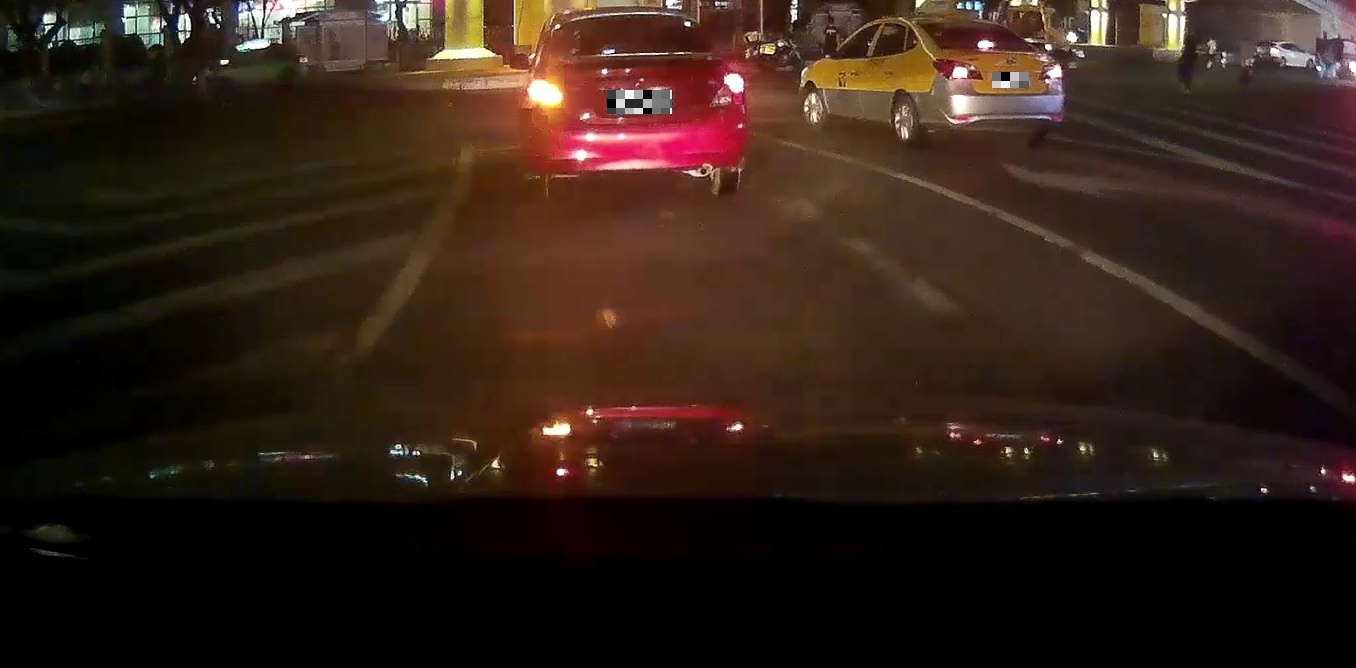L_light: (528, 79, 567, 110), (931, 58, 983, 79)
R_light: (708, 74, 745, 107), (1038, 61, 1064, 81)
T_light: (616, 13, 653, 20), (976, 40, 996, 49)
night-brake: (905, 15, 1066, 144)
night-left: (523, 9, 748, 195)
plate_1: (607, 90, 672, 114)
plate_2: (992, 72, 1029, 88)
